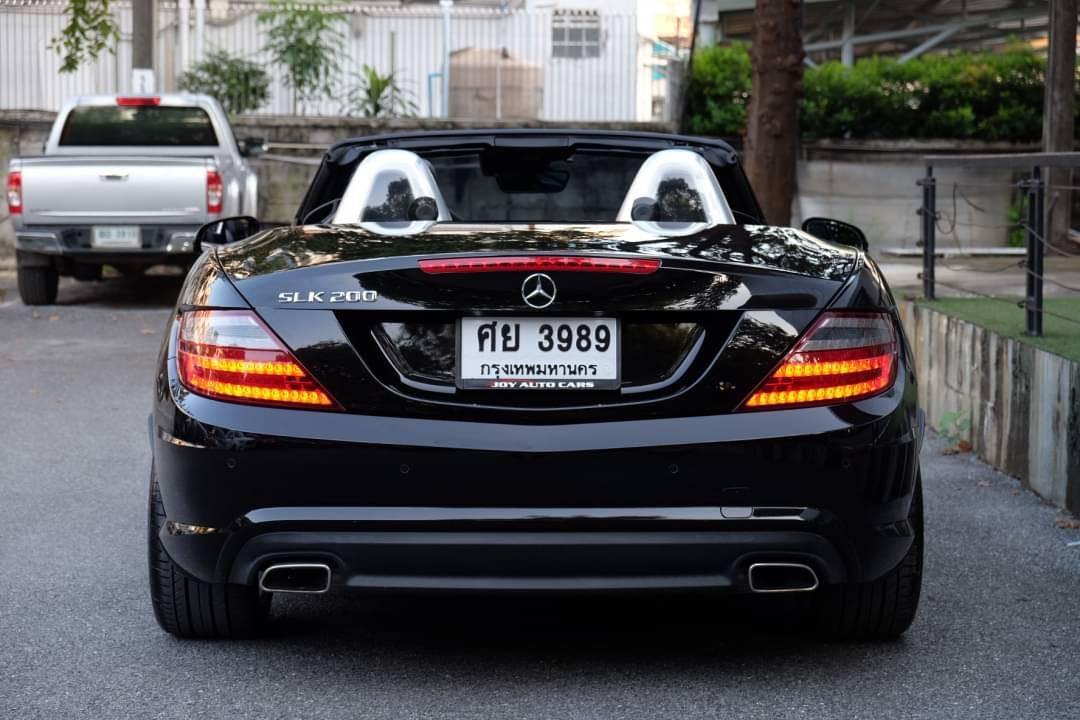license-plate: (451, 296, 625, 404)
